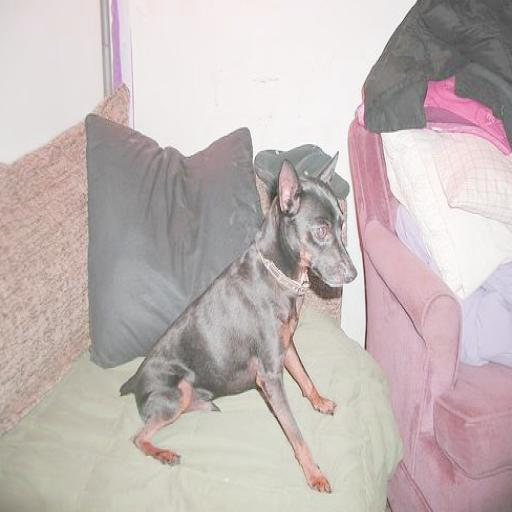dog_face: (277, 151, 359, 294)
